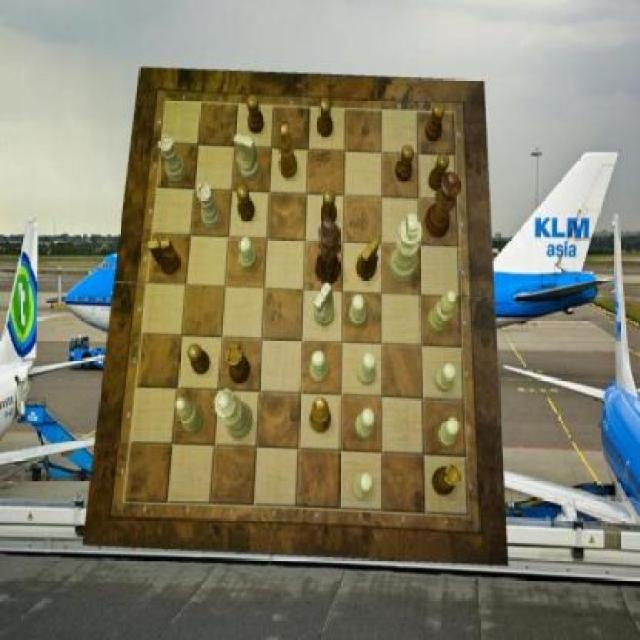bishop: (278, 125, 298, 179), (309, 397, 332, 435)
black-bishop: (316, 217, 342, 286)
black-king: (147, 238, 180, 274), (357, 237, 380, 279)
black-knight: (429, 152, 450, 190), (426, 103, 446, 142), (188, 344, 210, 376), (237, 184, 255, 220), (395, 146, 413, 182), (248, 94, 264, 134), (317, 98, 333, 138), (320, 190, 337, 226)
black-pawn: (424, 172, 460, 238)
black-queen: (432, 464, 462, 496), (228, 344, 252, 384)
black-rook: (429, 290, 457, 334), (177, 397, 205, 435)
white-bishop: (390, 214, 422, 283)
white-king: (234, 134, 258, 180), (314, 282, 334, 326)
white-knight: (438, 417, 461, 448), (356, 408, 376, 440), (435, 365, 458, 392), (350, 294, 368, 328), (352, 472, 373, 500), (311, 350, 328, 384), (359, 352, 376, 386), (239, 237, 256, 271)
white-pawn: (214, 388, 253, 440)
white-queen: (160, 134, 188, 181), (197, 183, 221, 229)
